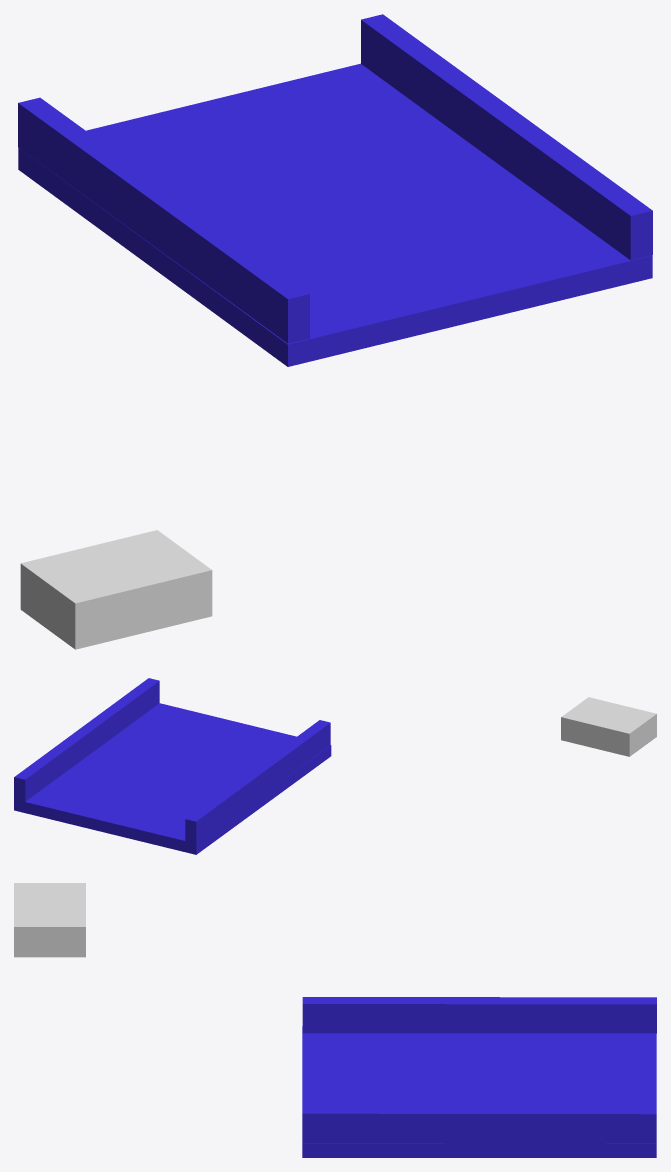
File: pinball.glb
3 views of the same model, one above another, from view 1: azimuth 30°, elevation 25°; view 2: azimuth 150°, elevation 25°; view 3: azimuth 270°, elevation 25° (orthographic). The views are drawn at different scales.
Parts seen in each view (by area): view 1: Board, RightBorder, LeftBorder, Cube; view 2: Board, LeftBorder, RightBorder, Cube; view 3: Board, LeftBorder, RightBorder, Cube.
Boxes of the visible parts, box(x1,y1,x2,y2) form: Board: box(18, 63, 652, 366); RightBorder: box(361, 14, 652, 260); LeftBorder: box(18, 97, 309, 343); Cube: box(20, 530, 212, 649); Board: box(14, 703, 331, 854); LeftBorder: box(185, 720, 330, 843); RightBorder: box(14, 678, 159, 801); Cube: box(561, 697, 656, 756); Board: box(302, 1026, 656, 1157); LeftBorder: box(302, 997, 656, 1033); RightBorder: box(302, 1106, 656, 1143); Cube: box(14, 883, 85, 957).
Size of what is drawn, in the model's own units: 9.98 by 1 by 10.61.
